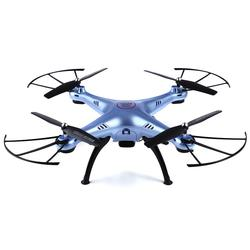drone: (2, 67, 250, 188)
